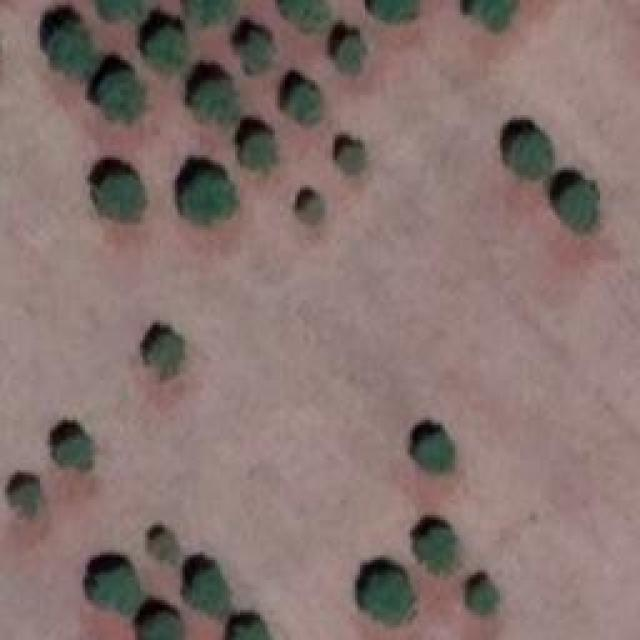Tree: (188, 78, 243, 131), (43, 18, 88, 78), (95, 70, 143, 125), (183, 173, 233, 223), (95, 173, 143, 223), (95, 563, 140, 616), (190, 563, 235, 616), (560, 175, 603, 230), (363, 575, 408, 623), (420, 523, 458, 576), (145, 25, 185, 75), (513, 128, 553, 178), (148, 330, 183, 380), (413, 435, 456, 473), (180, 0, 233, 30), (53, 435, 96, 470), (243, 133, 278, 173), (284, 0, 327, 32), (240, 28, 273, 68), (475, 0, 518, 28), (288, 85, 318, 125), (468, 578, 498, 618), (145, 612, 185, 640), (227, 617, 274, 640), (10, 480, 38, 510), (340, 143, 368, 173), (340, 38, 363, 73), (100, 0, 138, 20), (377, 0, 415, 20), (300, 195, 323, 225)
